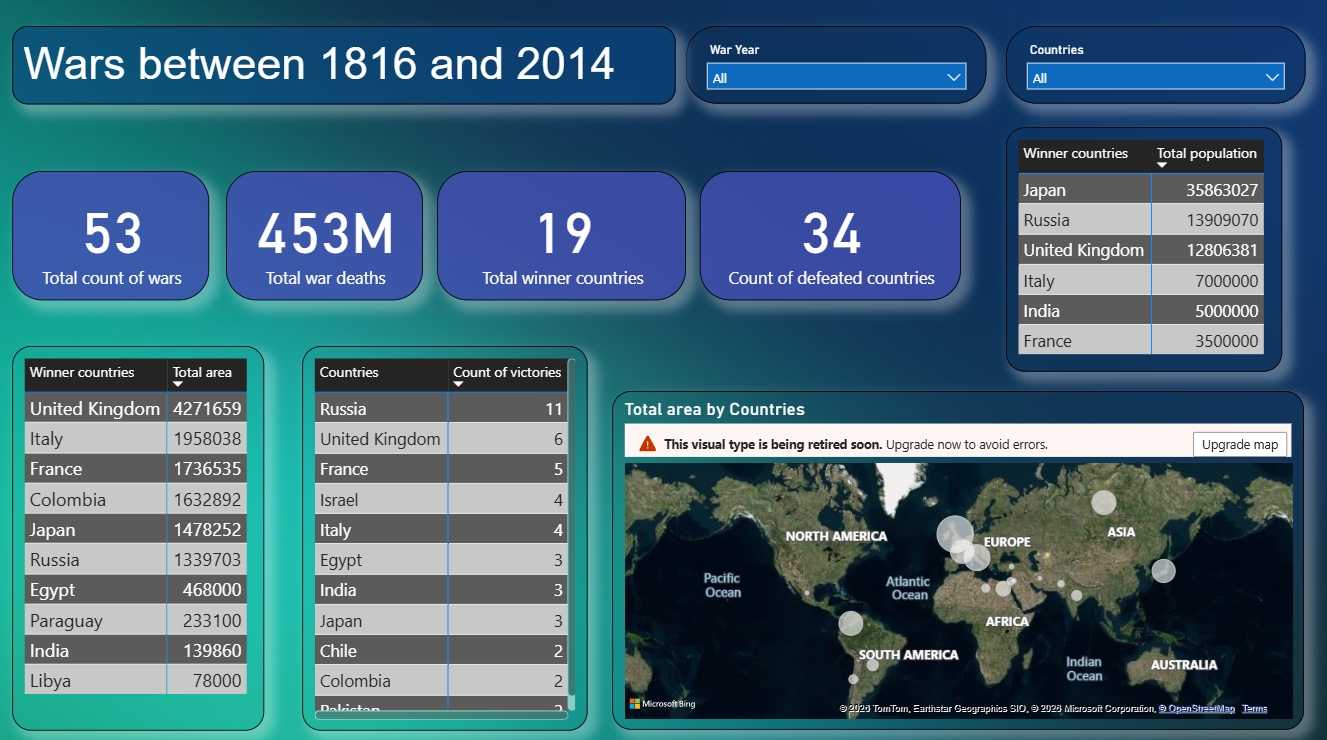

This screenshot's page, from the dashboard's own definition file:
{"tool":"powerbi","page":{"name":"Wars between 1816 and 2014","canvas":[1280,720],"ordinal":0},"visuals":[{"type":"map","fields":{"Category":["war_list_1816_2010.STATENAME"],"Size":["Sum(conquest_since_1816-1945.AREA)"]},"box":[591.2,379,662.9,324.9],"z":0},{"type":"card","title":"All-out war in 1816","fields":{"Values":["CountNonNull(conquest_since_1816-1945.WAR_YEAR)"]},"box":[16.1,168.3,188.8,124.4],"z":1000},{"type":"card","fields":{"Values":["Sum(war_list_1816_2010.TOTAL_BATTLE_DEATHS)"]},"box":[221,168.3,188.8,124.4],"z":2000},{"type":"card","fields":{"Values":["Count(conquest_since_1816-1945.COUNTRY_GAINING)"]},"box":[422.9,168.3,238.5,124.4],"z":3000},{"type":"card","fields":{"Values":["Count(conquest_since_1816-1945.COUNTRY_LOSING)"]},"box":[674.6,168.3,250.2,124.4],"z":4000},{"type":"pivotTable","fields":{"Rows":["conquest_since_1816-1945.COUNTRY_GAINING"],"Values":["Sum(conquest_since_1816-1945.AREA)"]},"box":[16.1,335.1,241.5,368.8],"z":5000},{"type":"pivotTable","fields":{"Rows":["conquest_since_1816-1945.COUNTRY_GAINING"],"Values":["Sum(conquest_since_1816-1945.POP)"]},"box":[968.8,125.9,264.9,234.1],"z":6000},{"type":"slicer","fields":{"Values":["conquest_since_1816-1945.WAR_YEAR"]},"box":[661.5,29.3,288.3,74.6],"z":7000},{"type":"textbox","box":[15.6,29.1,636,74.8],"z":8000},{"type":"slicer","fields":{"Values":["conquest_since_1816-1945.COUNTRY_GAINING"]},"box":[968.8,29.3,286.8,74.6],"z":9000},{"type":"pivotTable","fields":{"Rows":["conquest_since_1816-1945.COUNTRY_GAINING"],"Values":["CountNonNull(conquest_since_1816-1945.COUNTRY_GAINING)"]},"box":[294.1,335.1,273.7,368.8],"z":10000}]}

Visuals, with their boxes in screenshot pixels (x1, y1, x2, y2), scaled from the page's 1280x720 canvas onto the 1327x740 screenshot:
map - war_list_1816_2010.STATENAME x Sum(conquest_since_1816-1945.AREA): rect(613, 390, 1300, 723)
"All-out war in 1816" card: rect(17, 173, 212, 301)
card - Sum(war_list_1816_2010.TOTAL_BATTLE_DEATHS): rect(229, 173, 425, 301)
card - Count(conquest_since_1816-1945.COUNTRY_GAINING): rect(438, 173, 686, 301)
card - Count(conquest_since_1816-1945.COUNTRY_LOSING): rect(699, 173, 959, 301)
pivotTable - conquest_since_1816-1945.COUNTRY_GAINING x Sum(conquest_since_1816-1945.AREA): rect(17, 344, 267, 723)
pivotTable - conquest_since_1816-1945.COUNTRY_GAINING x Sum(conquest_since_1816-1945.POP): rect(1004, 129, 1279, 370)
slicer - conquest_since_1816-1945.WAR_YEAR: rect(686, 30, 985, 107)
textbox: rect(16, 30, 676, 107)
slicer - conquest_since_1816-1945.COUNTRY_GAINING: rect(1004, 30, 1302, 107)
pivotTable - conquest_since_1816-1945.COUNTRY_GAINING x CountNonNull(conquest_since_1816-1945.COUNTRY_GAINING): rect(305, 344, 589, 723)
